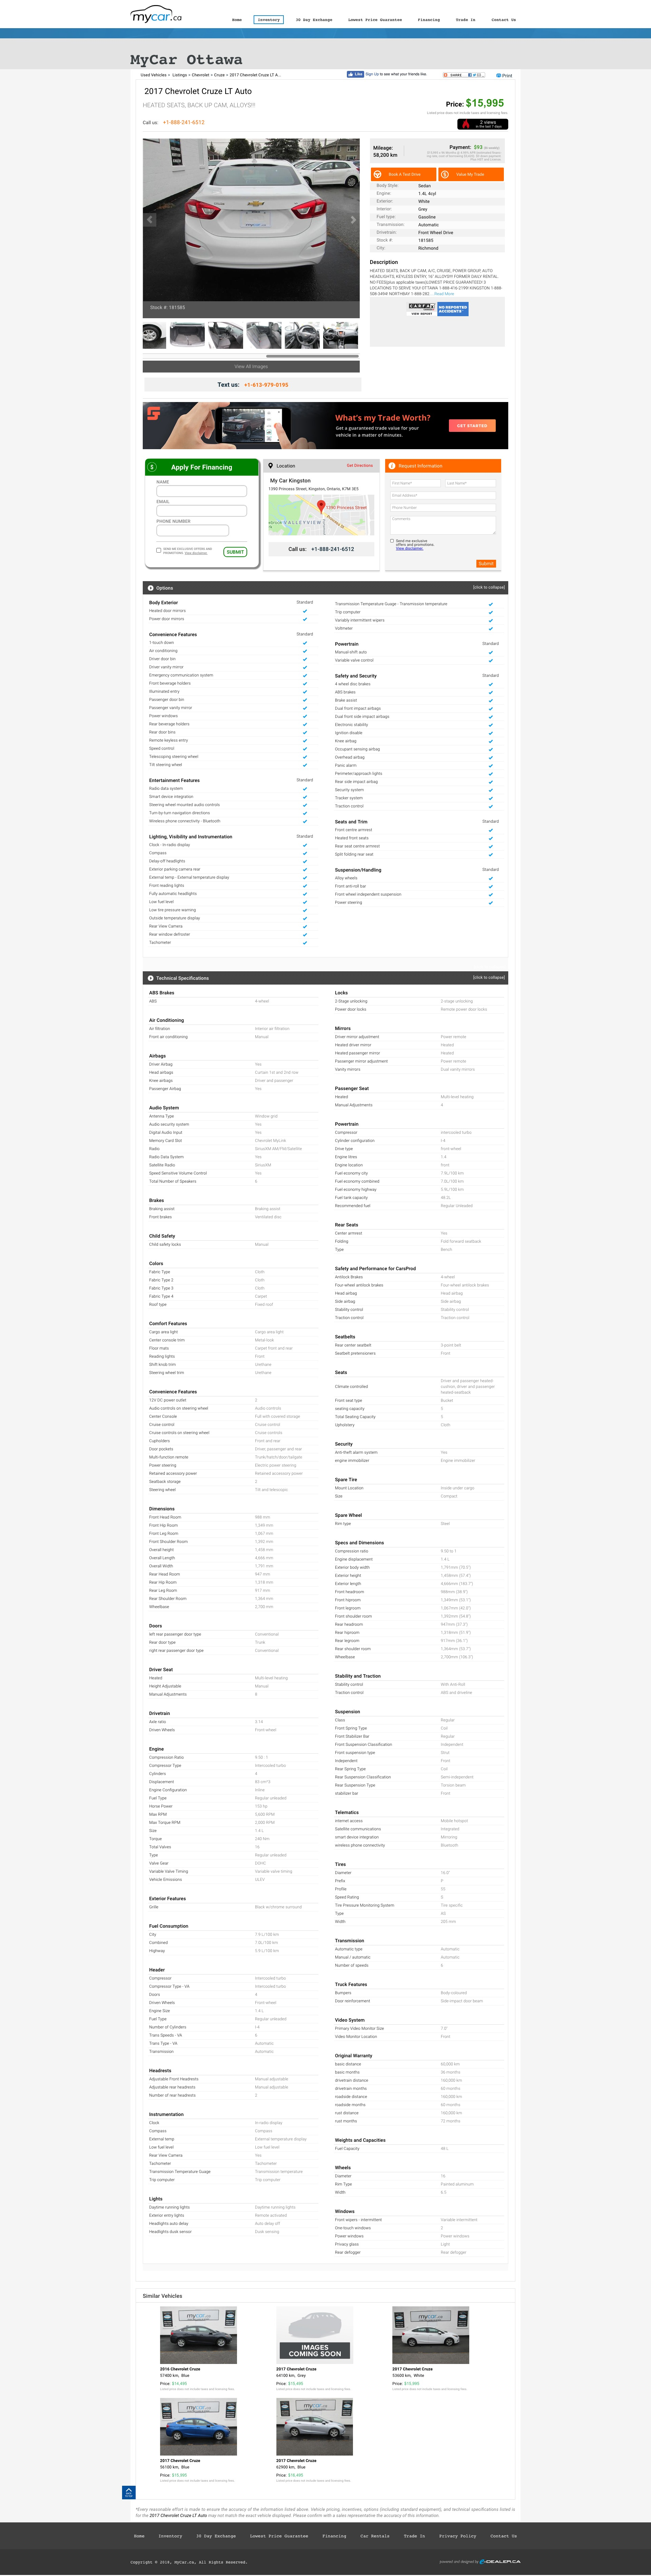car: (350, 215, 357, 225)
